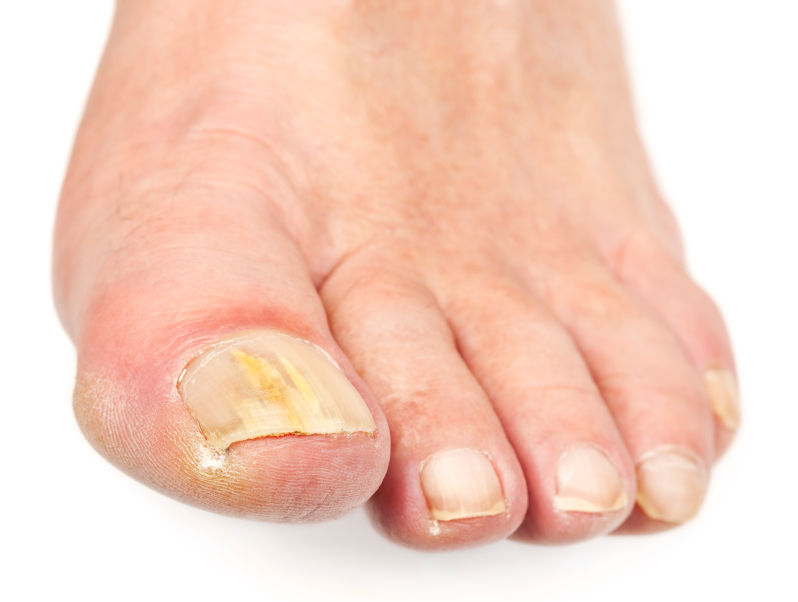Nail Fungal Infection: (215, 355, 370, 468)
